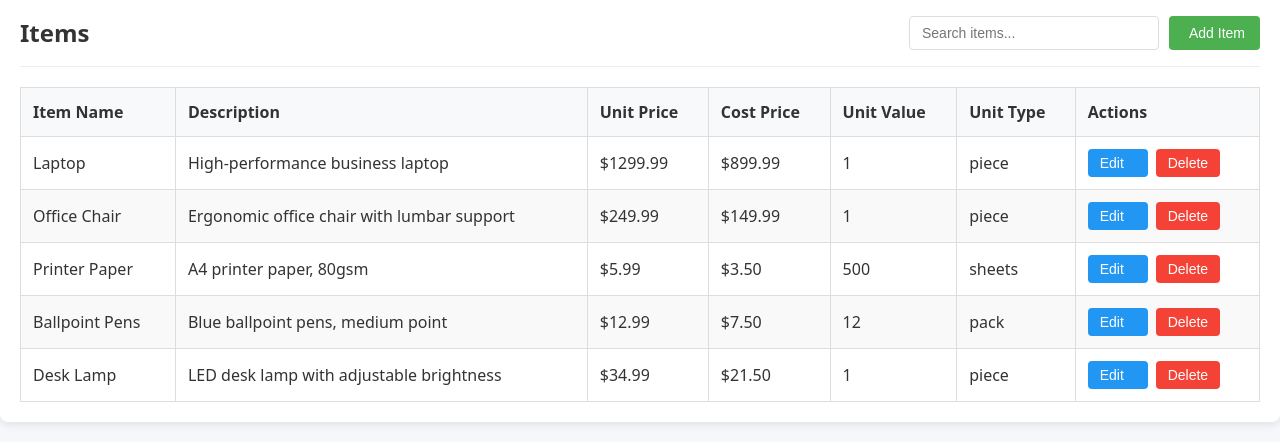
Test: ItemList Component › shows no items message when filter has no results
This screenshot has width=1280, height=442.
# Type a search term that won't match any items
Type "NonExistentItem" into the field with placeholder "Search items...".
click(1034, 33); type("NonExistentItem")  # box [909,16,1159,50]
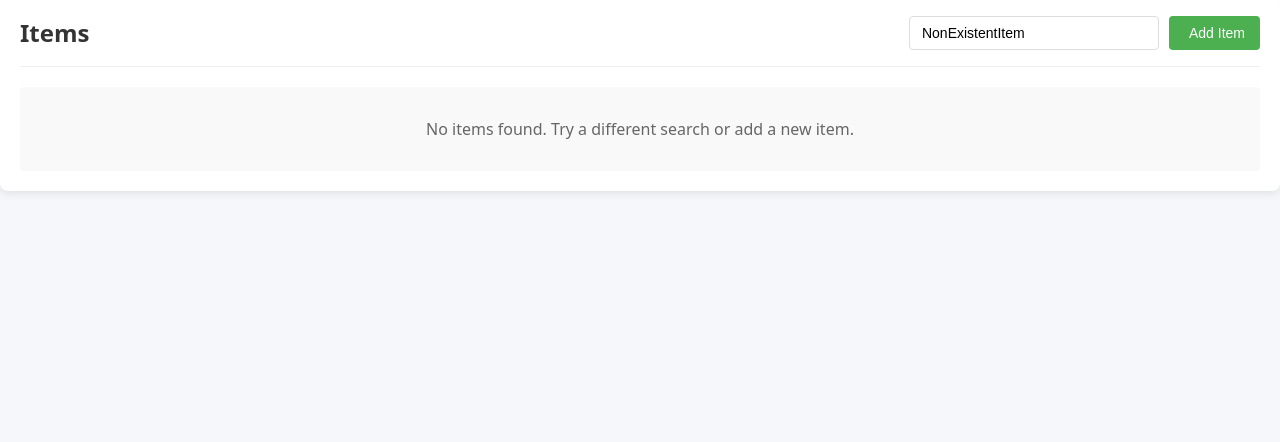
Check: the text "No items found. Try a different search or add a new item." is shown, box [20,87,1260,171]
